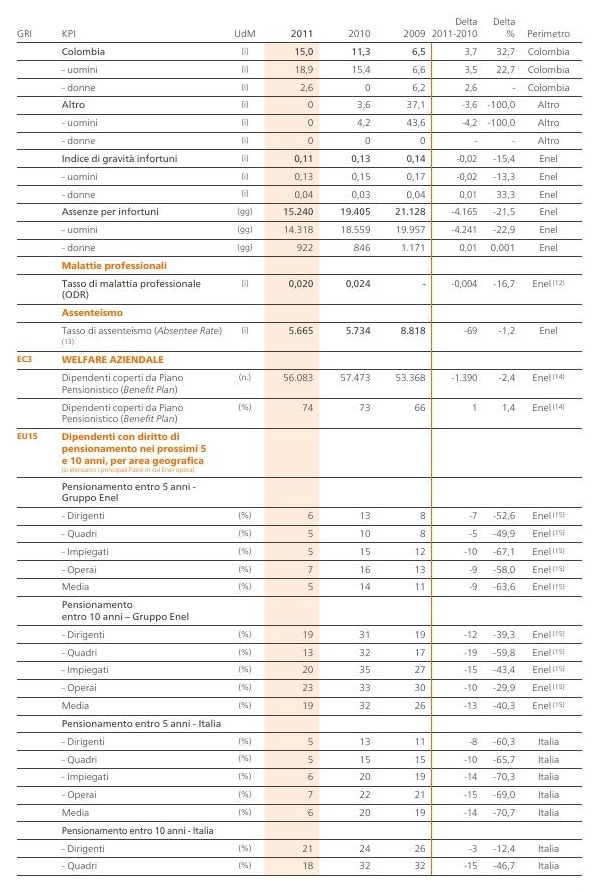table: (0, 0, 597, 892)
